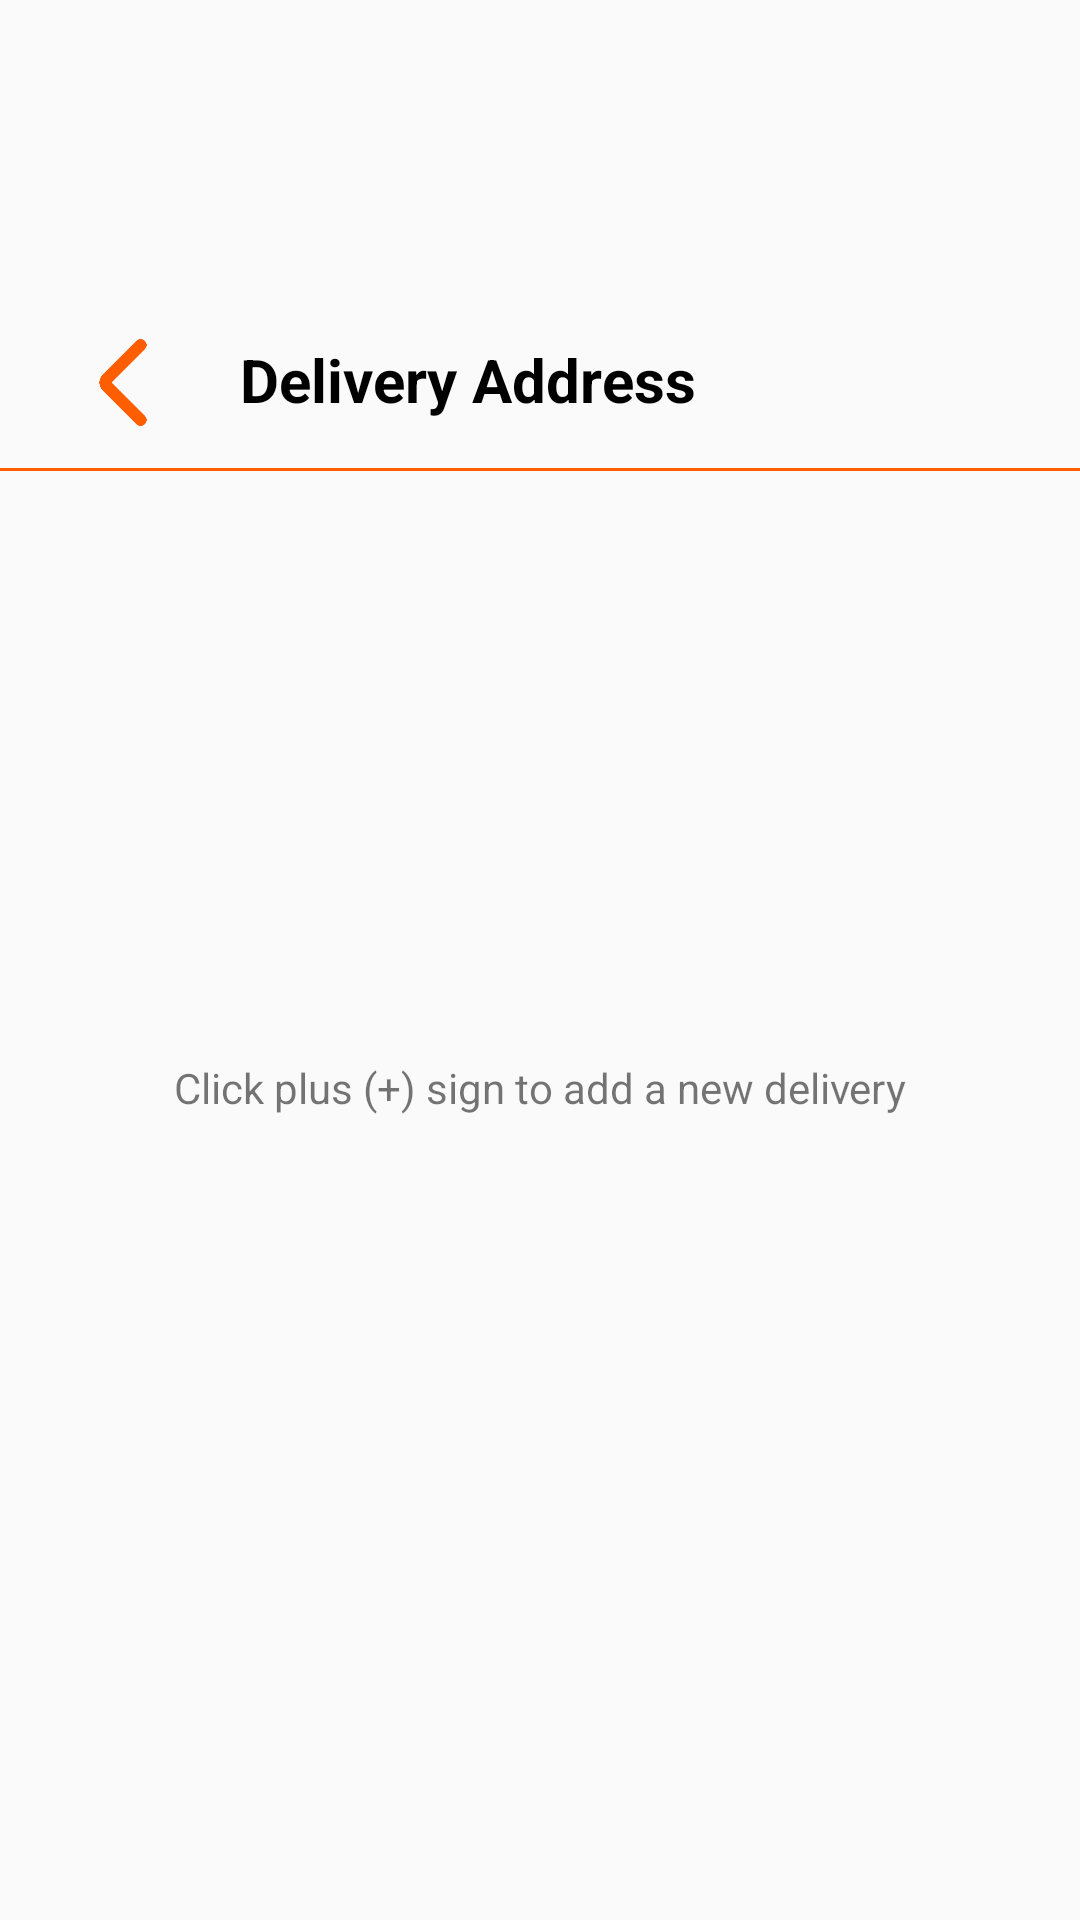

Icons on this 1080*1920 Android screen, each with the point to tap as (x=x, y=y):
arrow left: (x=123, y=382)
